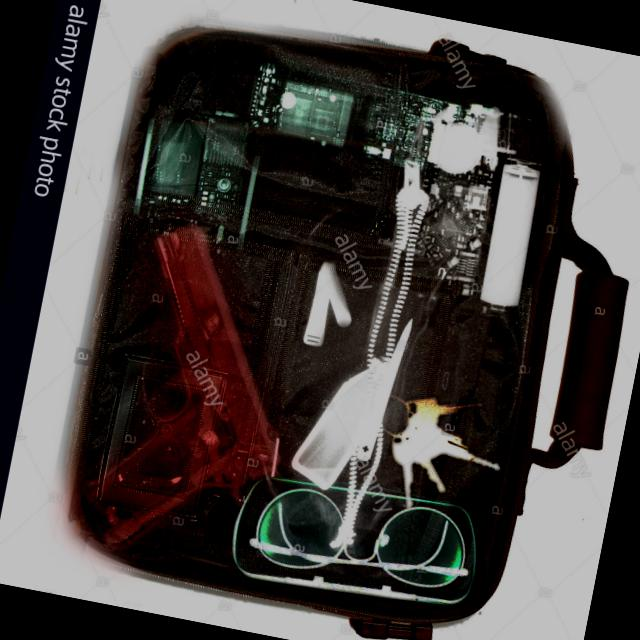handgun: (68, 218, 320, 578)
